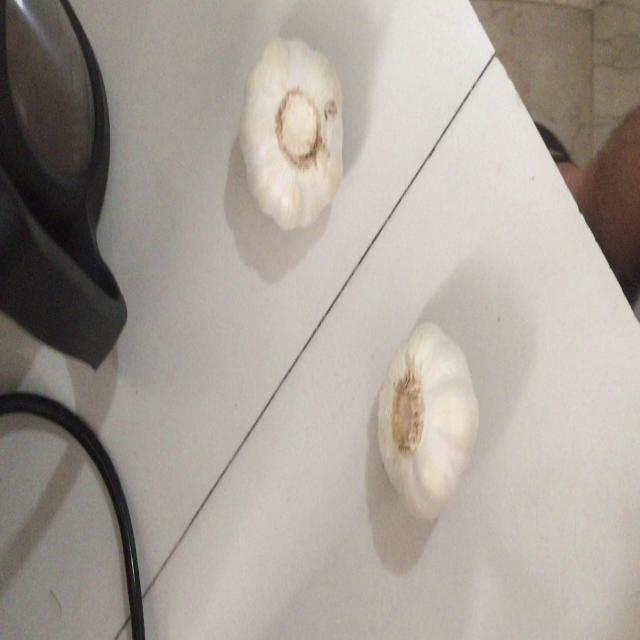garlic: (241, 31, 347, 241), (375, 318, 481, 525)
